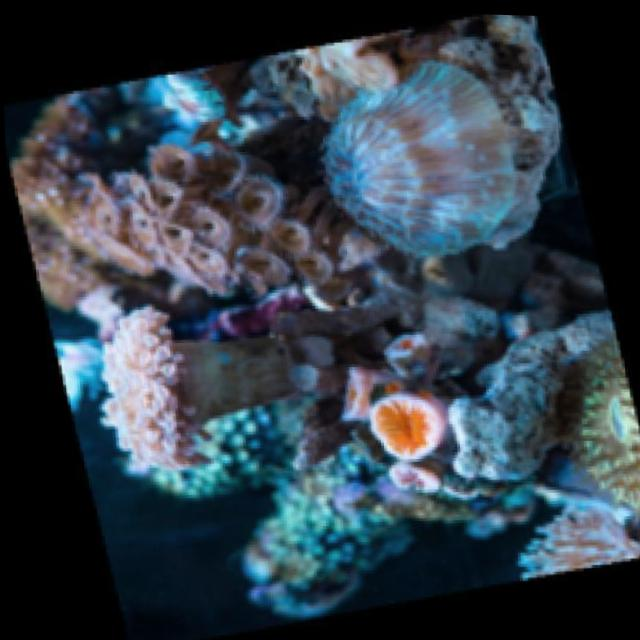Healthy Coral: (15, 109, 377, 339), (62, 281, 297, 495), (313, 58, 532, 268), (305, 310, 529, 501), (551, 340, 638, 511)
